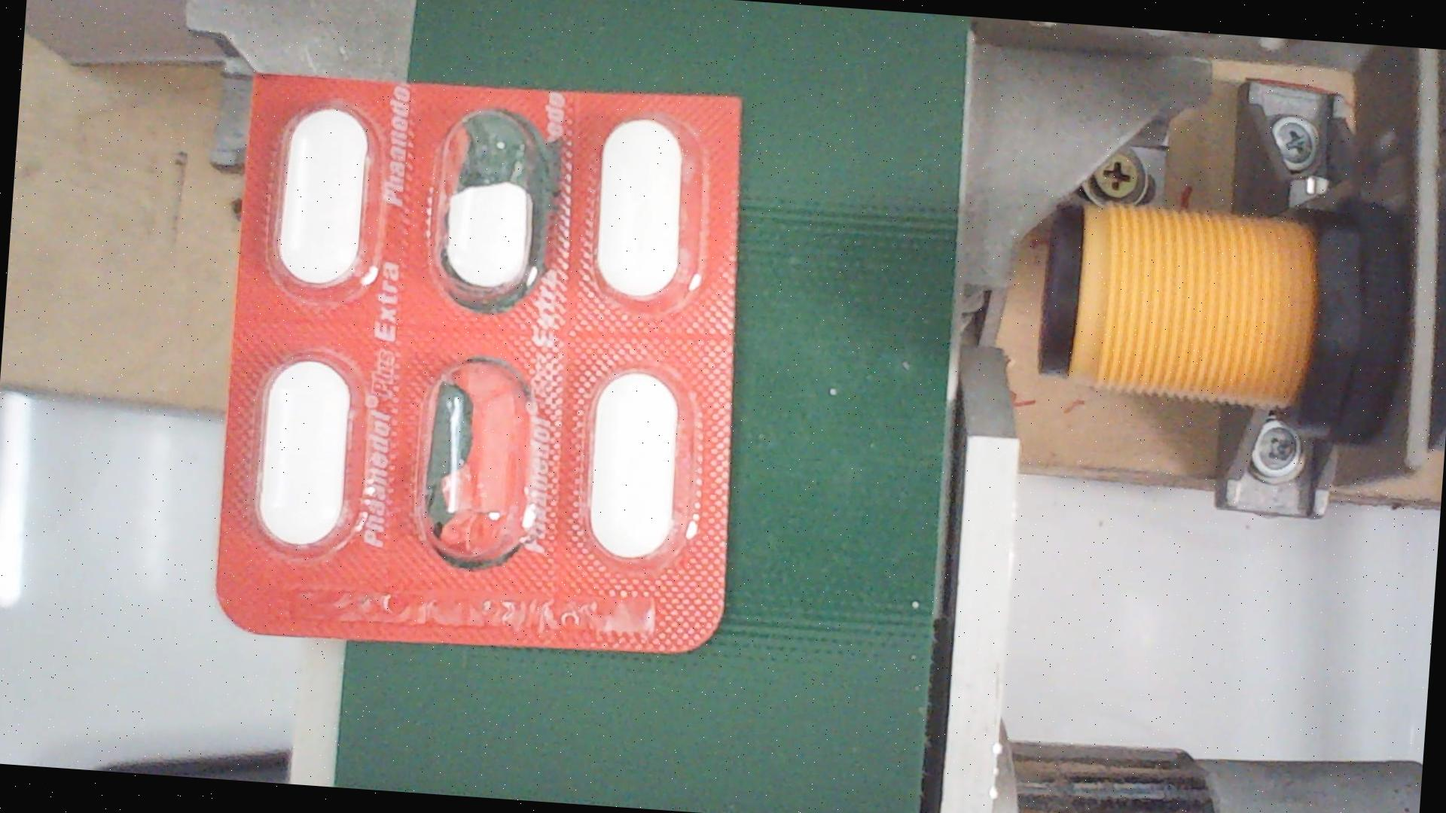Empty: (405, 347, 546, 581)
Full: (253, 82, 395, 316), (239, 341, 381, 574), (562, 352, 704, 585), (561, 105, 702, 338)
Partial: (413, 95, 554, 329)
